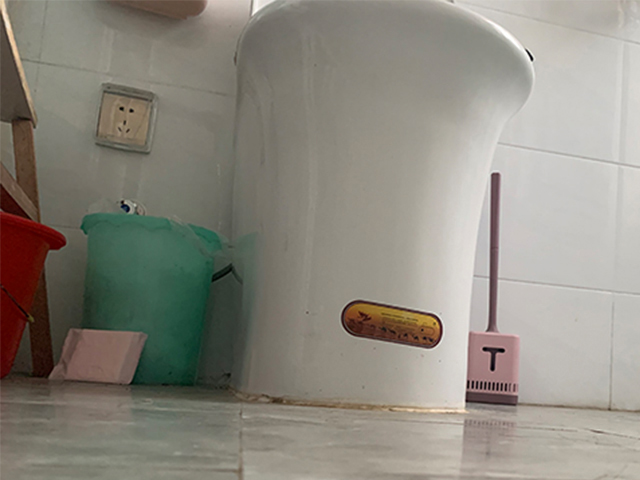closestool: (232, 1, 536, 411)
trashcan: (80, 212, 224, 388)
